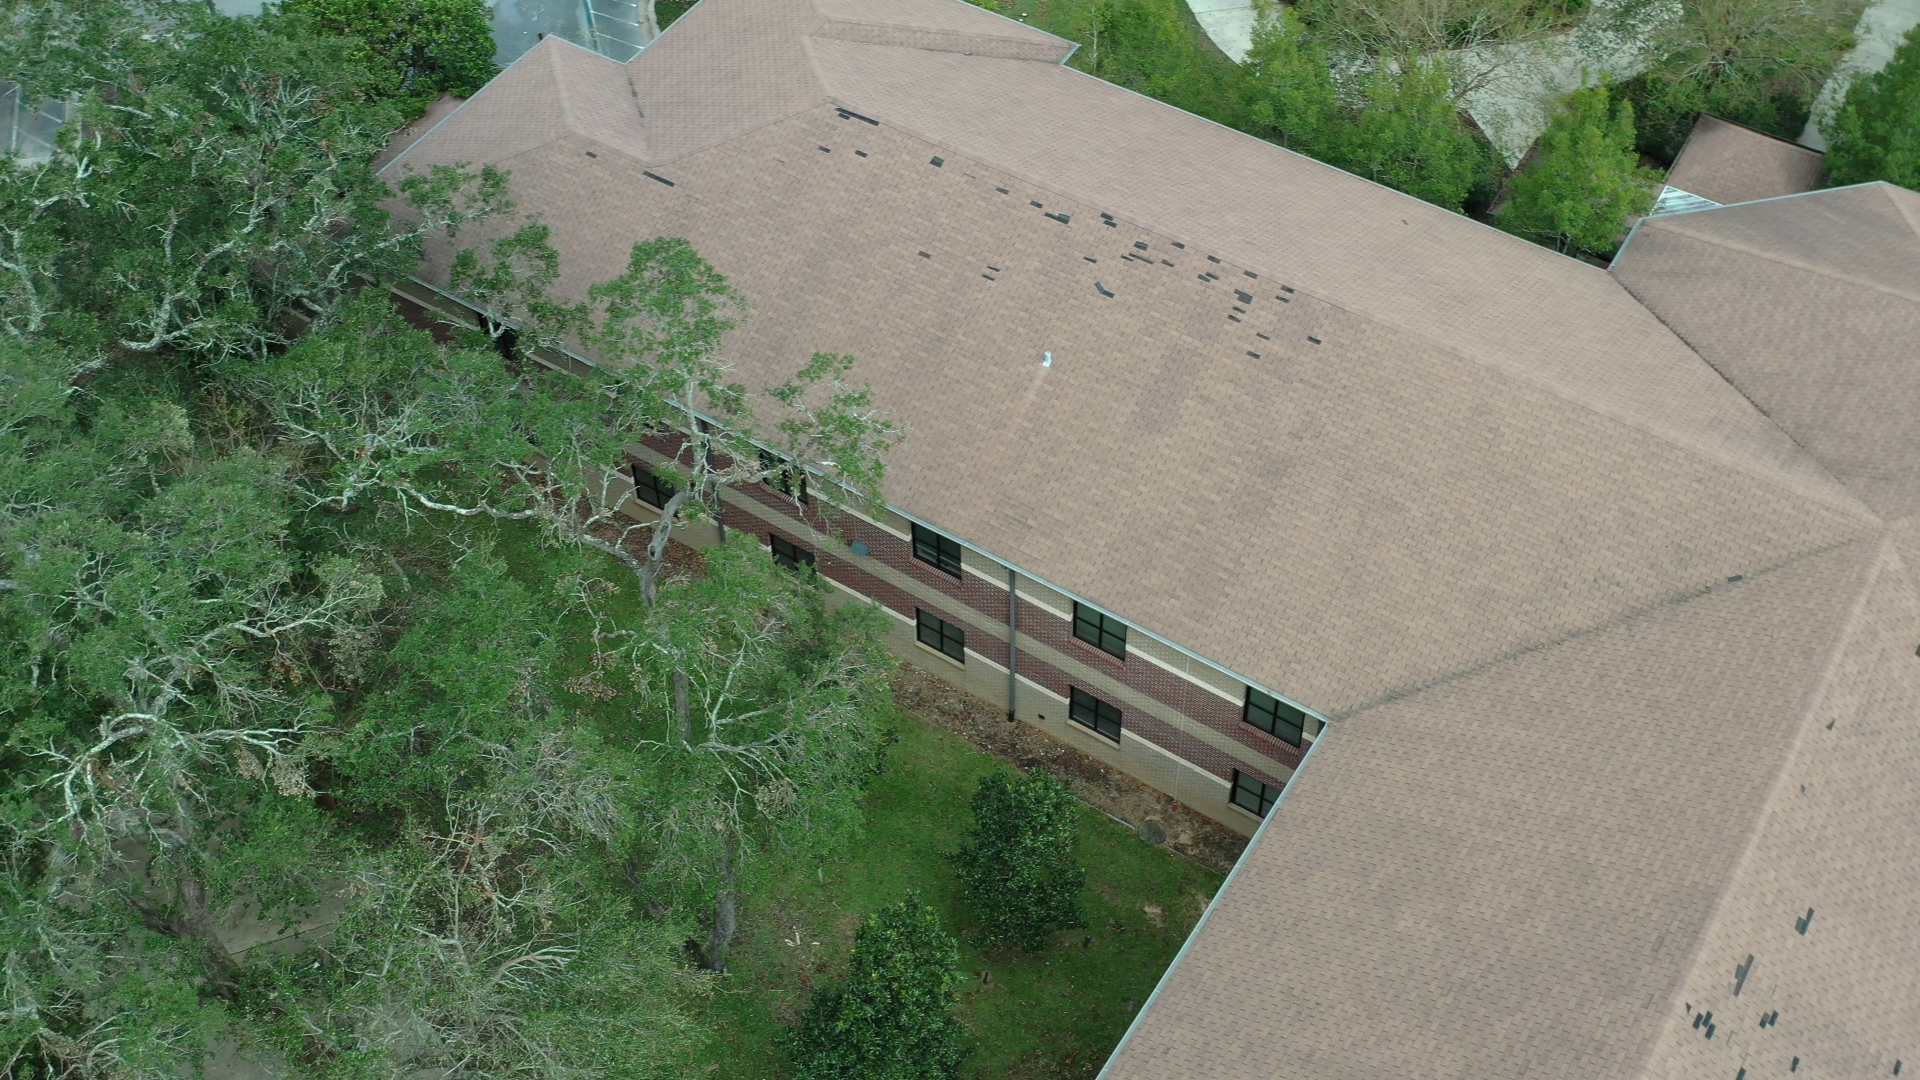Light: (916, 156, 1323, 360), (1685, 953, 1799, 1080), (819, 105, 881, 160), (1793, 909, 1815, 938), (640, 170, 675, 187), (583, 149, 597, 160)
